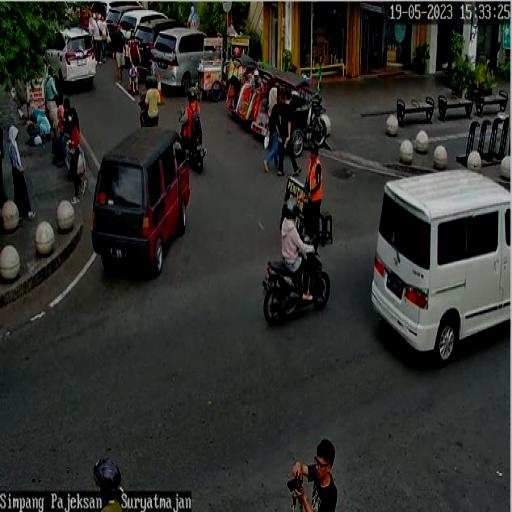mobil: (369, 167, 512, 361), (92, 130, 192, 271), (46, 21, 96, 94), (154, 27, 211, 90), (119, 9, 165, 69), (134, 23, 174, 73)
motor: (261, 236, 333, 332), (176, 96, 215, 180)
